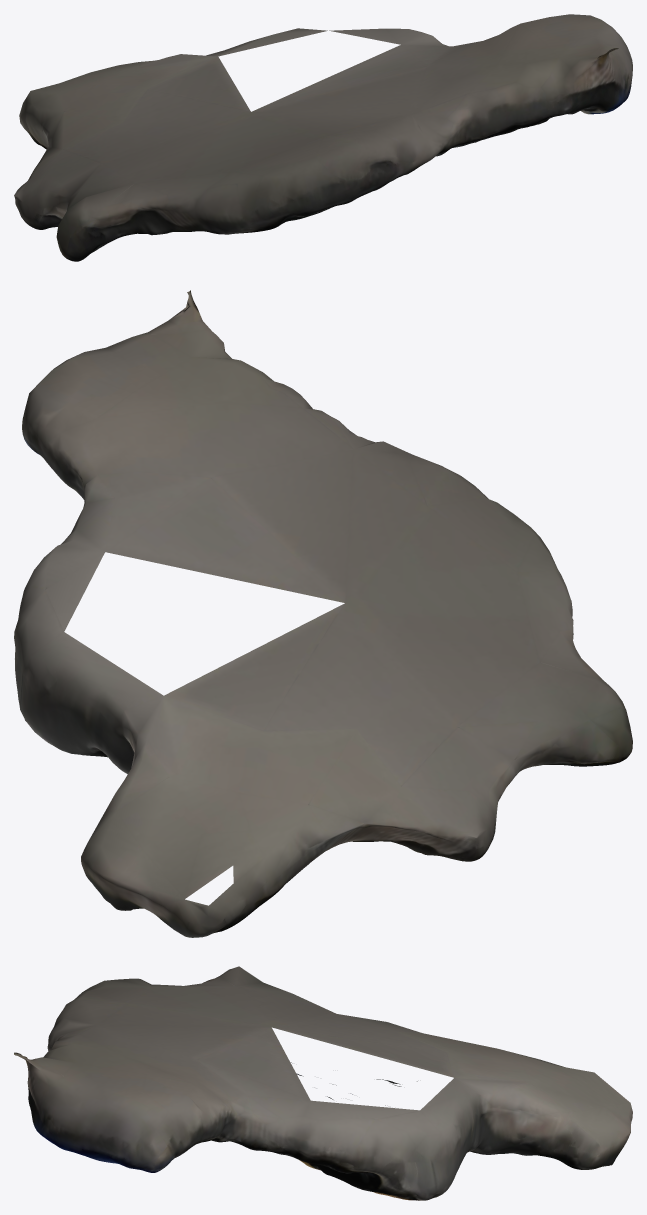
3 renders of one model, top to bottom at view 1: azimuth 30°, elevation 25°; view 2: azimuth 150°, elevation 25°; view 3: azimuth 270°, elevation 25°, orthographic. The views are drawn at different scales.
Size of the model in its own units: 0.5881 by 0.2458 by 0.5852.
Materials: 1 (1 with a texture image).
